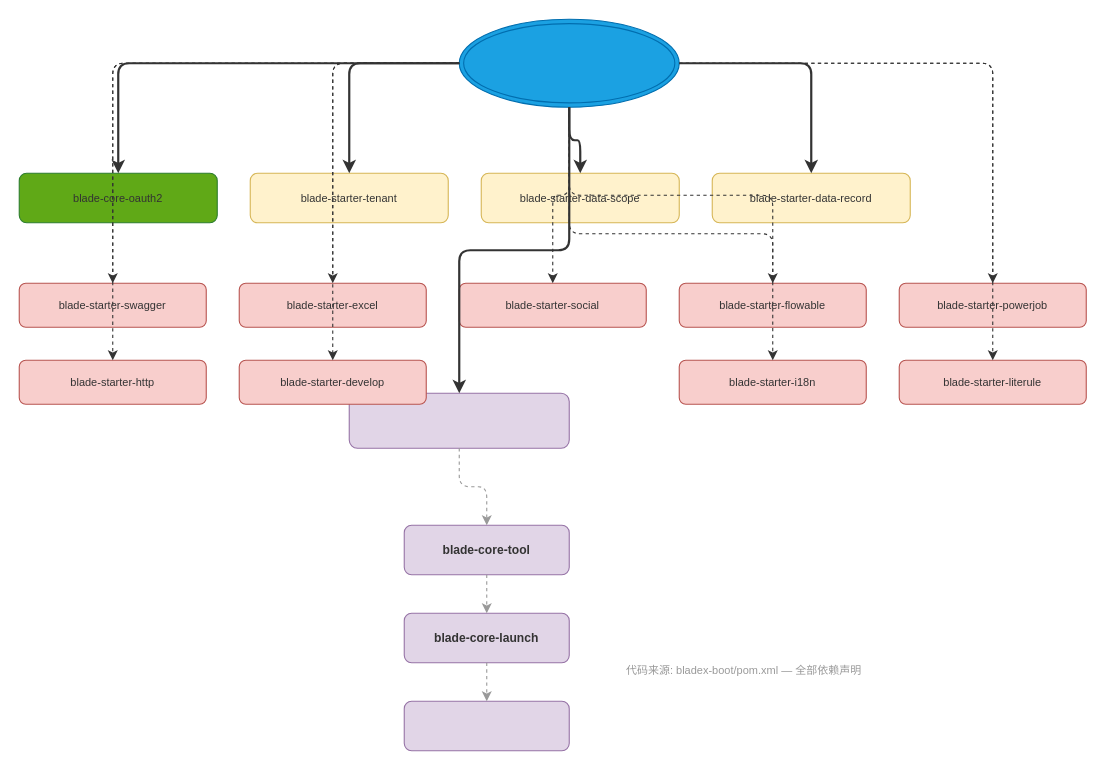
Some shapes in this 1106 by 770 pixel diagram are drawn without their labels. Each missing label, with the centre of its shape:
"blade-core-auto" belongs at point (486, 725).
"blade-core-boot" belongs at point (458, 420).
"BladeX-Boot" belongs at point (568, 62).
